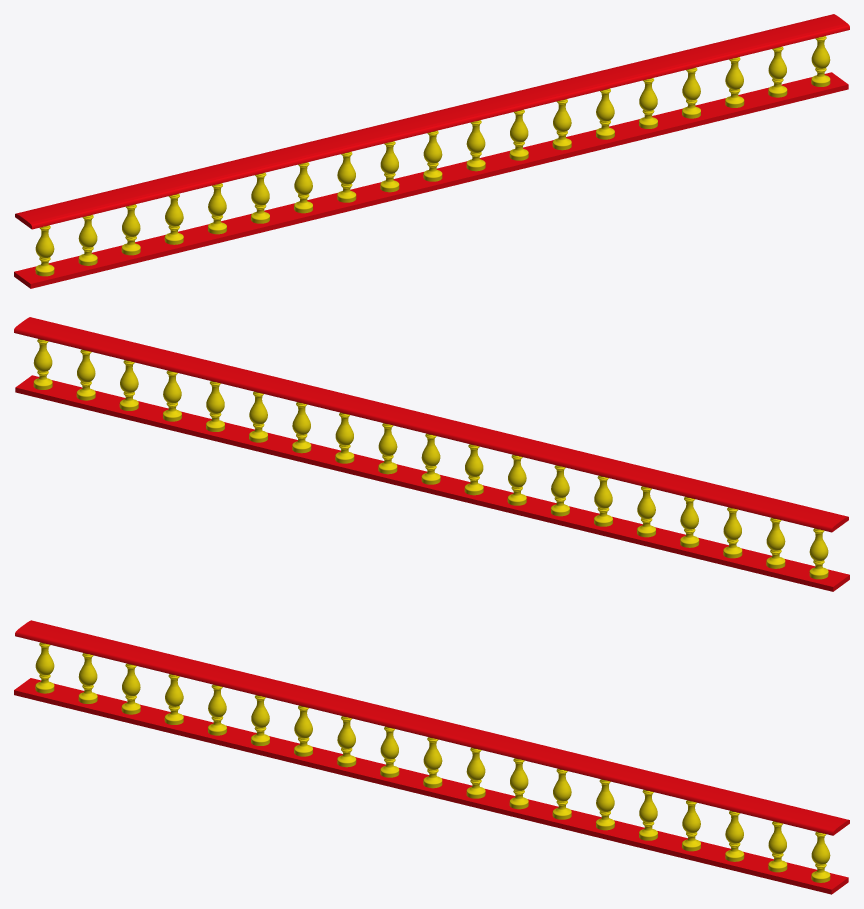
The model's file is Rembarde.fbx.
3 renders of one model, top to bottom at view 1: azimuth 30°, elevation 25°; view 2: azimuth 150°, elevation 25°; view 3: azimuth 330°, elevation 25°, orthographic.
Visible parts, largest first — view 1: Cube.004; view 2: Cube.004; view 3: Cube.004.
Boxes of the visible parts, x1,y1,x2,y2 form: Cube.004: (14, 14, 849, 288); Cube.004: (14, 317, 849, 591); Cube.004: (14, 620, 849, 894).
Bounding box in the file's own units: 938 × 71.27 × 33.28.
